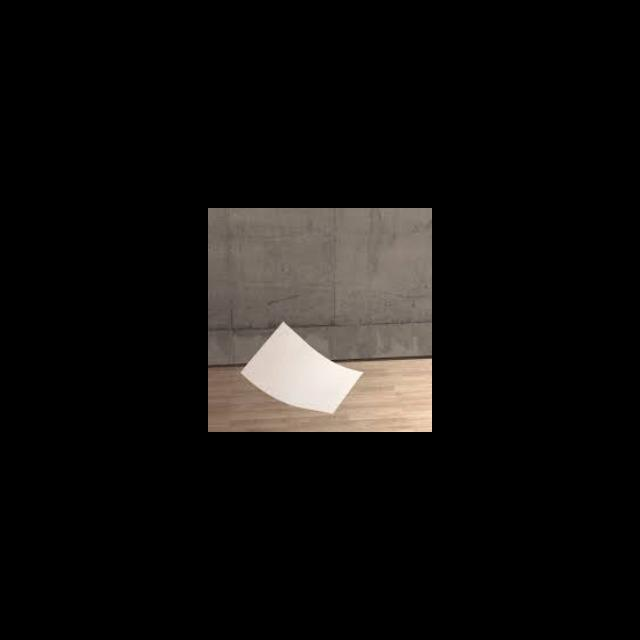paper: (237, 317, 367, 422)
